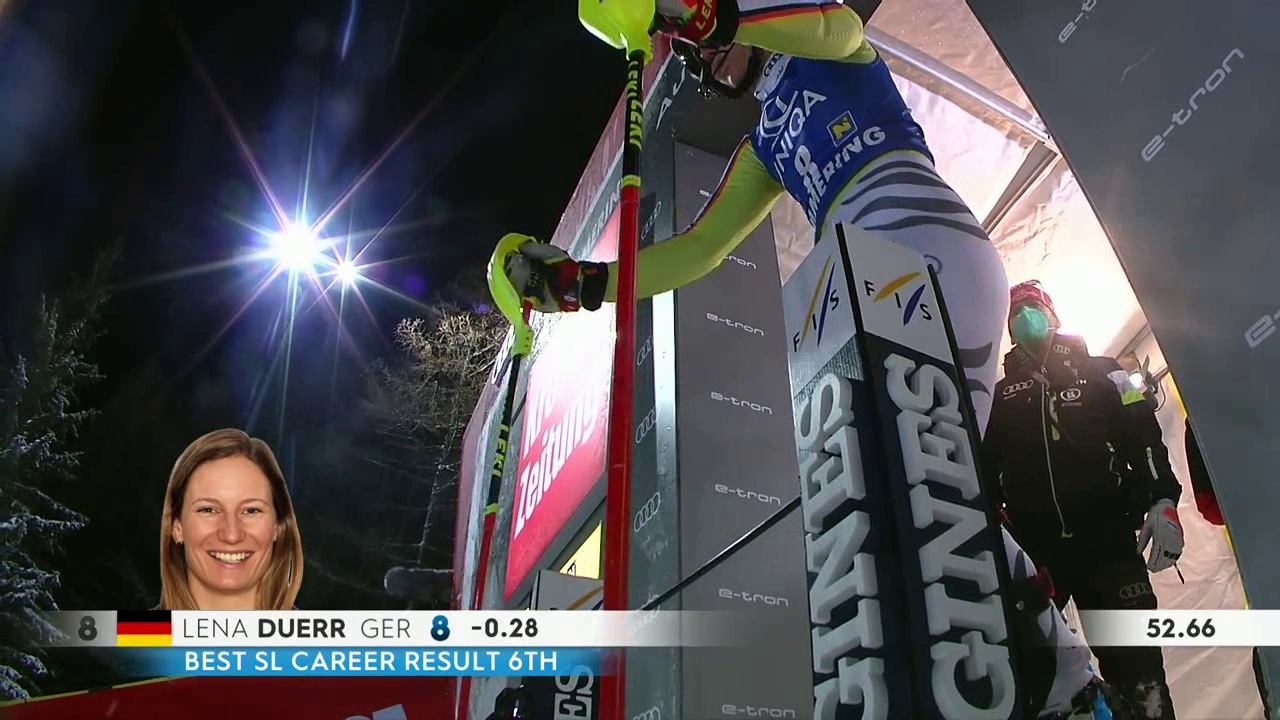audi: (629, 488, 669, 536)
etron: (704, 382, 780, 416), (716, 582, 793, 609)
longines: (817, 334, 904, 718)
